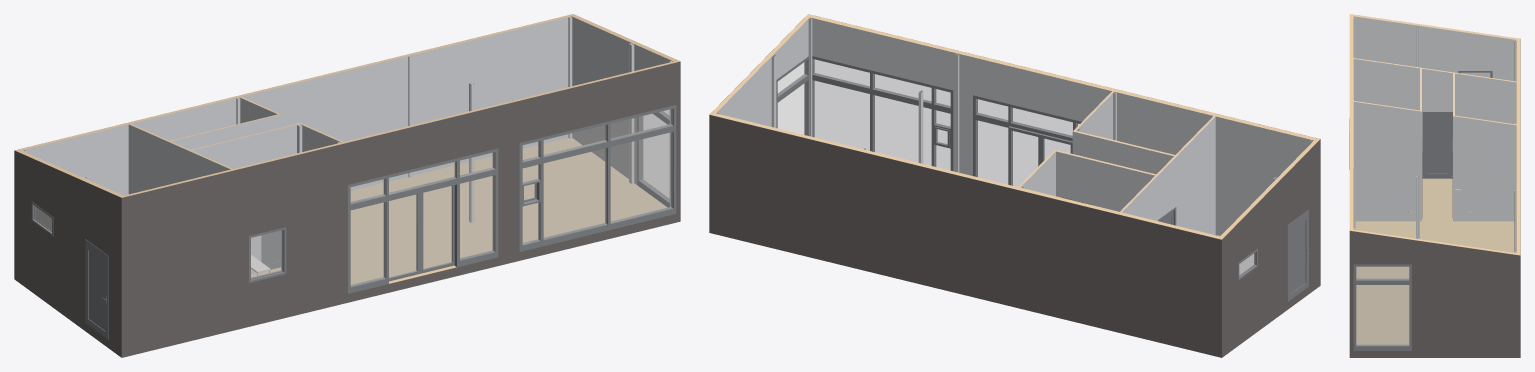
The model's file is Alauša_R03.fbx.
The picture shows the model from 3 angles, left to right: view 1: azimuth 30°, elevation 25°; view 2: azimuth 150°, elevation 25°; view 3: azimuth 270°, elevation 25°; orthographic projection. The views are drawn at different scales.
Parts seen in each view (by area): view 1: IfcWall/Part:2324350, IfcWall/Part:2323920, IfcSlab/Part:2323923, IfcWindow/Window (Alauša 2):Type 1:1922610, IfcDoor/Window (Alauša):Type 1:1896446, IfcWall/Part:2323912, IfcWall/Part:2323917, IfcWall/Part:2323909, IfcWall/Part:2323897, IfcWindow/Window (Alauša 4):Type 1:1926400, IfcDoor/Durys:1000x2100:1874505, IfcWindow/HM_Window_Frame_Masonry_4692:1000x1200:1879303 (+6 smaller); view 2: IfcWall/Part:2323921, IfcWall/Part:2323914, IfcWall/Part:2323912, IfcWindow/Window (Alauša 2):Type 1:1922610, IfcDoor/Window (Alauša):Type 1:1896446, IfcWall/Part:2323909, IfcWall/Part:2323901, IfcWall/Part:2323917, IfcWall/Part:2323898, IfcWindow/Window (Alauša 4):Type 1:1926400, IfcWall/Part:2323922, IfcWall/Part:2323916 (+6 smaller); view 3: IfcWall/Part:2323918, IfcSlab/Part:2323923, IfcWall/Part:2323903, IfcWall/Part:2323911, IfcWall/Part:2323894, IfcWindow/Window (Alauša 4):Type 1:1926400, IfcWall/Part:2323908, IfcWall/Part:2323907, IfcDoor/Durys:800x2100:1872854, IfcWall/Part:2323906, IfcWall/Part:2323922, IfcWall/Part:2323916 (+6 smaller).
Part boxes in pixels (x1,y1,x2,y2): IfcWall/Part:2324350: (121,61,680,357); IfcWall/Part:2323920: (24,17,568,194); IfcSlab/Part:2323923: (251,138,666,284); IfcWindow/Window (Alauša 2):Type 1:1922610: (519,105,676,251); IfcDoor/Window (Alauša):Type 1:1896446: (348,148,498,293); IfcWall/Part:2323912: (14,150,121,357); IfcWall/Part:2323917: (572,16,673,184); IfcWall/Part:2323909: (128,124,230,194); IfcWall/Part:2323897: (191,125,296,274); IfcWindow/Window (Alauša 4):Type 1:1926400: (637,110,669,207); IfcDoor/Durys:1000x2100:1874505: (85,239,108,339); IfcWindow/HM_Window_Frame_Masonry_4692:1000x1200:1879303: (249,227,286,282); IfcWall/Part:2323921: (709,114,1221,357); IfcWall/Part:2323914: (810,17,1313,235); IfcWall/Part:2323912: (1222,139,1320,357); IfcWindow/Window (Alauša 2):Type 1:1922610: (812,56,953,170); IfcDoor/Window (Alauša):Type 1:1896446: (973,95,1081,186); IfcWall/Part:2323909: (1122,117,1215,235); IfcWall/Part:2323901: (1056,151,1154,211); IfcWall/Part:2323917: (716,19,808,126); IfcWall/Part:2323898: (1072,131,1173,174); IfcWindow/Window (Alauša 4):Type 1:1926400: (776,56,808,135); IfcWall/Part:2323922: (710,112,1223,239); IfcWall/Part:2323916: (810,15,1319,141); IfcWall/Part:2323918: (1349,231,1520,357); IfcSlab/Part:2323923: (1355,178,1514,344); IfcWall/Part:2323903: (1353,101,1421,221); IfcWall/Part:2323911: (1354,16,1515,80); IfcWall/Part:2323894: (1453,116,1516,221); IfcWindow/Window (Alauša 4):Type 1:1926400: (1353,264,1411,350); IfcWall/Part:2323908: (1353,59,1419,109); IfcWall/Part:2323907: (1455,73,1516,123); IfcDoor/Durys:800x2100:1872854: (1422,112,1452,178); IfcWall/Part:2323906: (1422,68,1452,175); IfcWall/Part:2323922: (1516,38,1520,255); IfcWall/Part:2323916: (1349,14,1353,229).
Size of the model in its own units: 1506 by 410 by 501.
